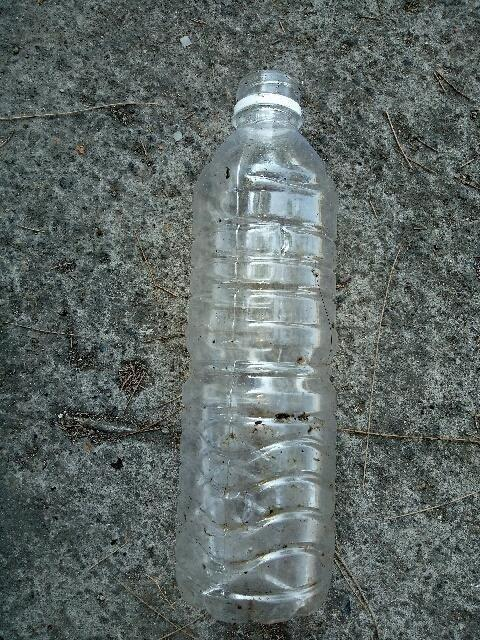bottle-plastic: (169, 64, 345, 630)
